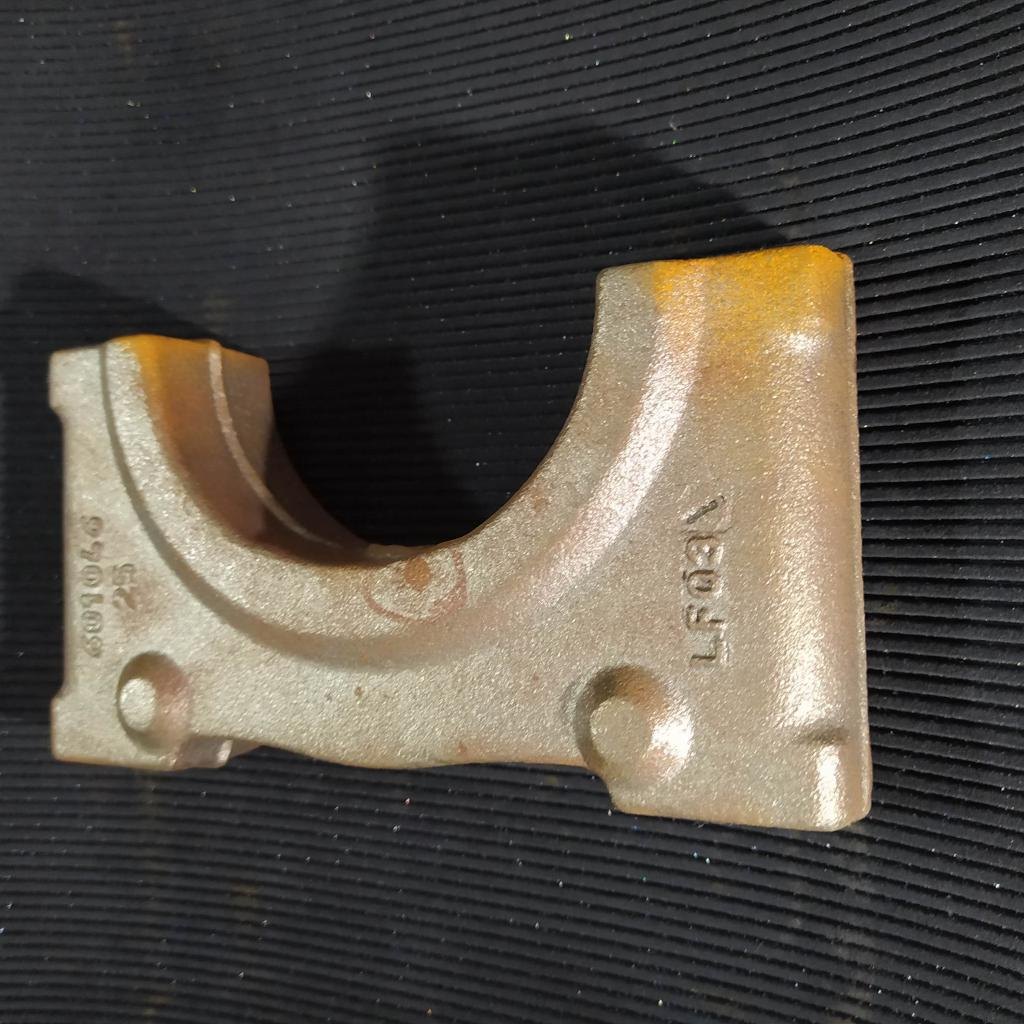mancha (ferrugem): (403, 556, 435, 594)
